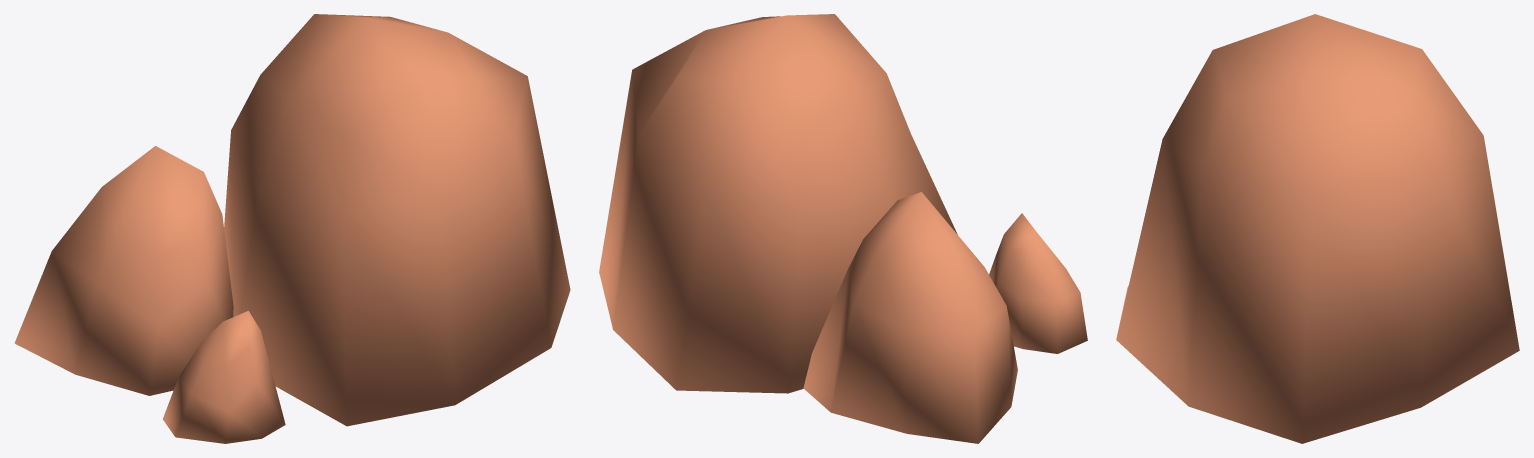
The model's file is Stone2.fbx.
3 renders of one model, left to right at view 1: azimuth 30°, elevation 25°; view 2: azimuth 150°, elevation 25°; view 3: azimuth 270°, elevation 25°, orthographic. The views are drawn at different scales.
Visible parts, largest first — view 1: Cube, Cube.001, Cube.002; view 2: Cube, Cube.001, Cube.002; view 3: Cube.
Boxes of the visible parts, left/top/right/bottom form: Cube: left=224, top=14, right=570, bottom=426; Cube.001: left=14, top=146, right=233, bottom=395; Cube.002: left=163, top=311, right=285, bottom=443; Cube: left=599, top=14, right=957, bottom=393; Cube.001: left=803, top=192, right=1017, bottom=443; Cube.002: left=989, top=213, right=1087, bottom=353; Cube: left=1116, top=14, right=1519, bottom=443.
Bounding box in the file's own units: 385 × 246 × 273.
